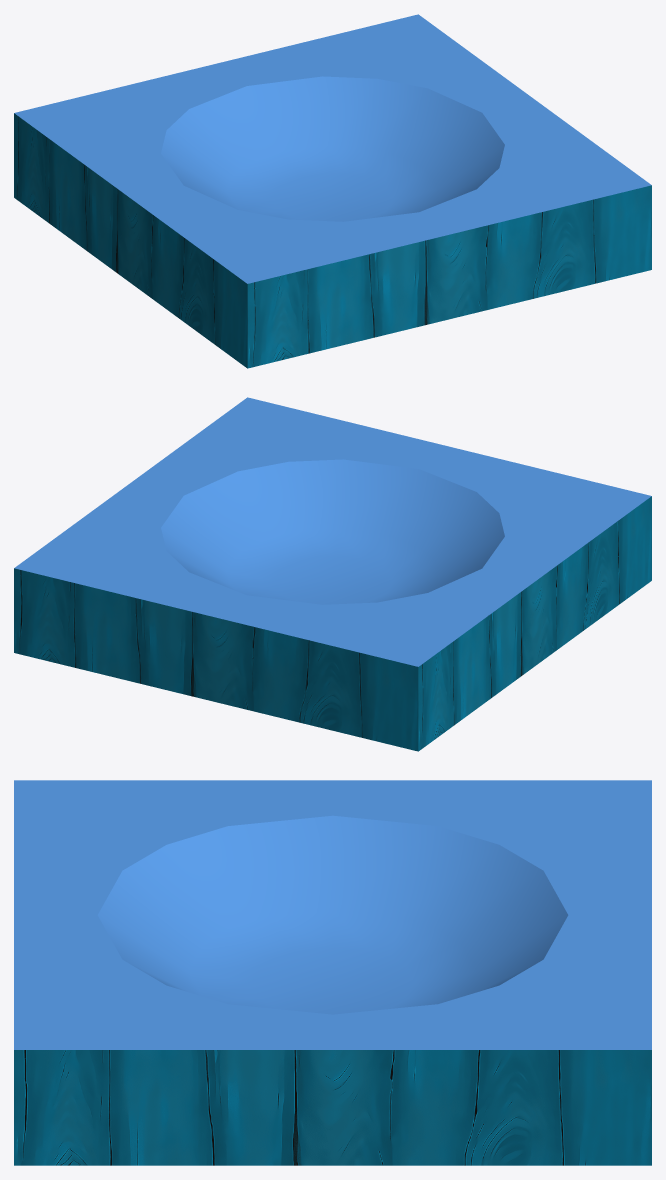
The model's file is M_Tile_Pit.fbx.
3 views of the same model, one above another, from view 1: azimuth 30°, elevation 25°; view 2: azimuth 150°, elevation 25°; view 3: azimuth 270°, elevation 25° (orthographic). The views are drawn at different scales.
Parts seen in each view (by area): view 1: Pit; view 2: Pit; view 3: Pit.
Boxes of the visible parts, <box> form: Pit: <box>14,14,651,368</box>; Pit: <box>14,397,651,751</box>; Pit: <box>14,780,651,1165</box>.
Size of the model in its own units: 100 by 20 by 100.
